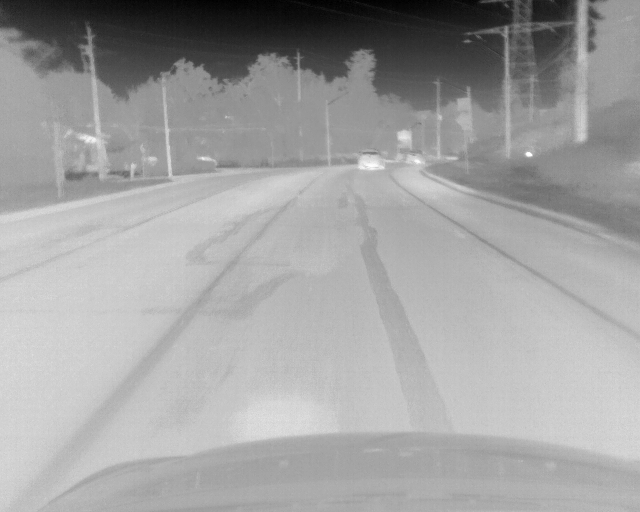car: (357, 148, 387, 172), (405, 149, 426, 166), (197, 155, 217, 170)
